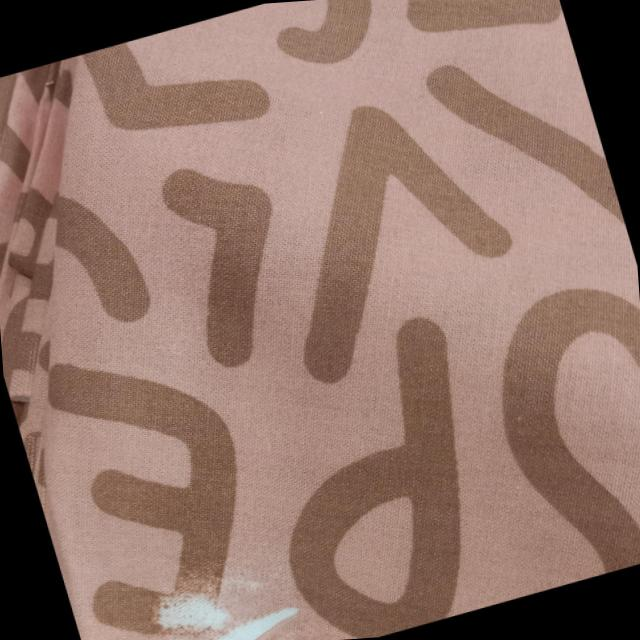selvet: (95, 542, 331, 640)
